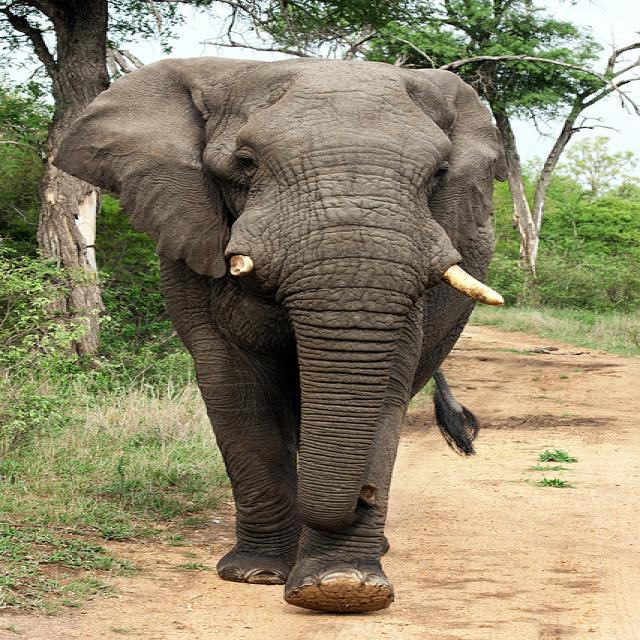Elephant: (50, 55, 508, 613)
